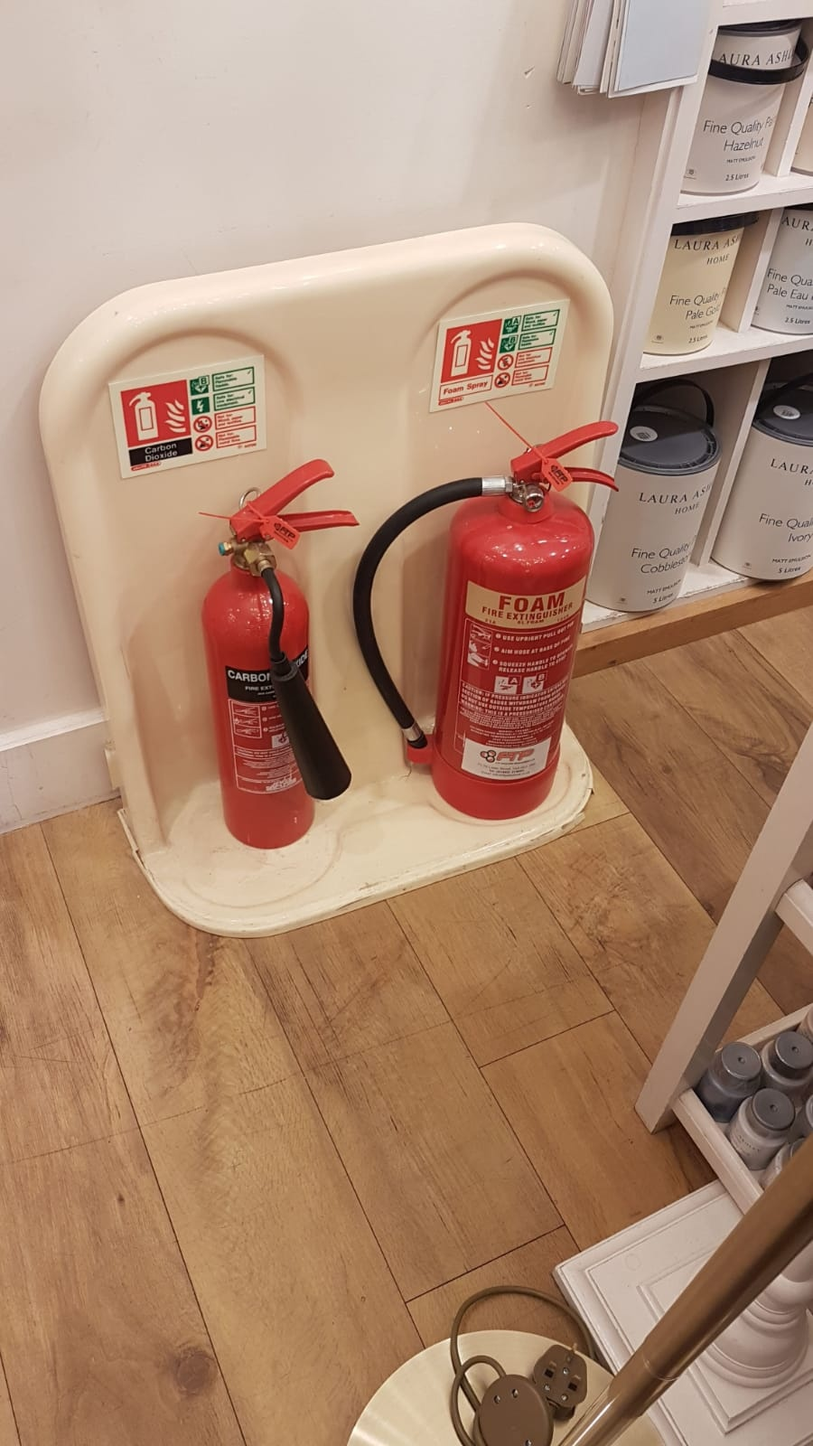fire_extinguisher: (352, 401, 620, 826), (197, 457, 359, 851)
